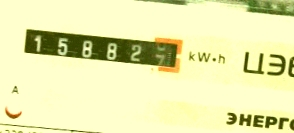1: (29, 31, 43, 52)
2: (128, 41, 142, 62)
5: (54, 34, 68, 56)
7: (152, 51, 165, 66)
8: (79, 36, 93, 59), (104, 39, 118, 62)
screen: (13, 14, 192, 80)
